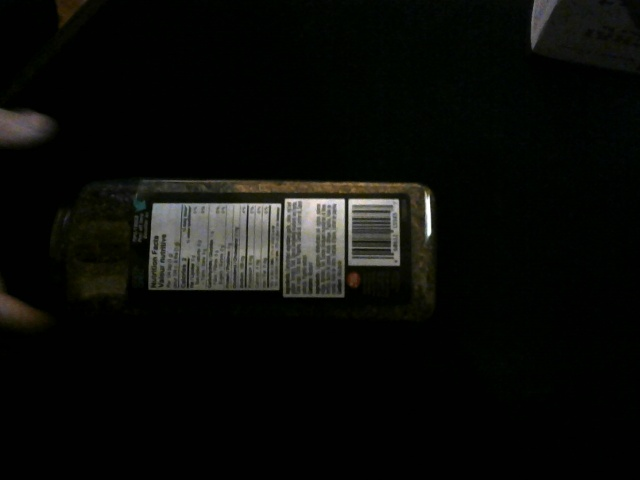Barcode: (349, 202, 399, 262)
